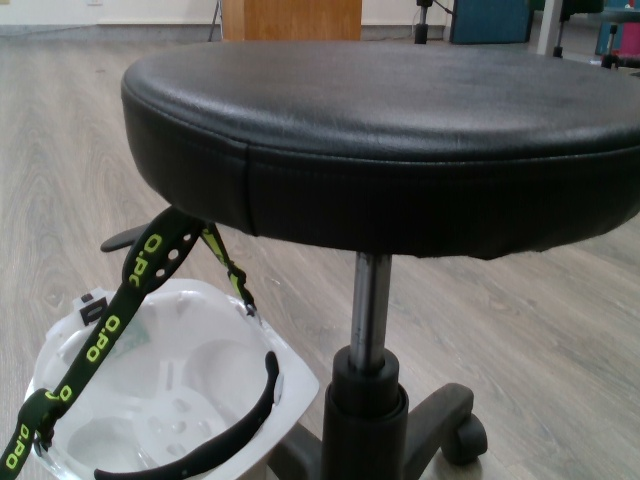helmet: (18, 273, 321, 480)
